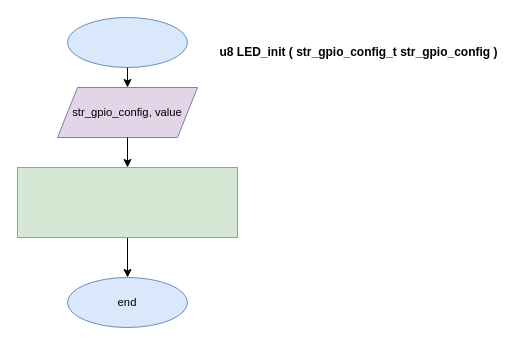
This 514x345 diagram has some shape labels left out. Each missing label, with the box of its shape:
Amp = R8 , PullUp = DIS Dir = OUT GPIO_init(str_gpio_config): (16, 166, 238, 238)
start: (66, 16, 188, 68)
